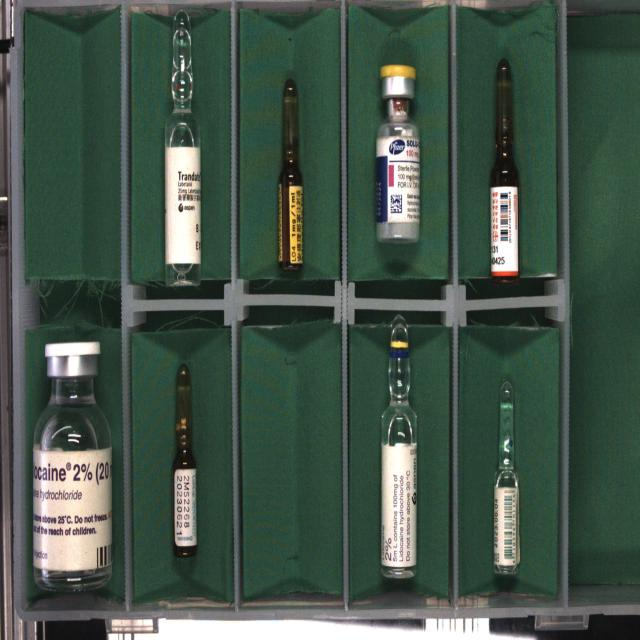Vials: (33, 341, 111, 590), (376, 65, 419, 243)
